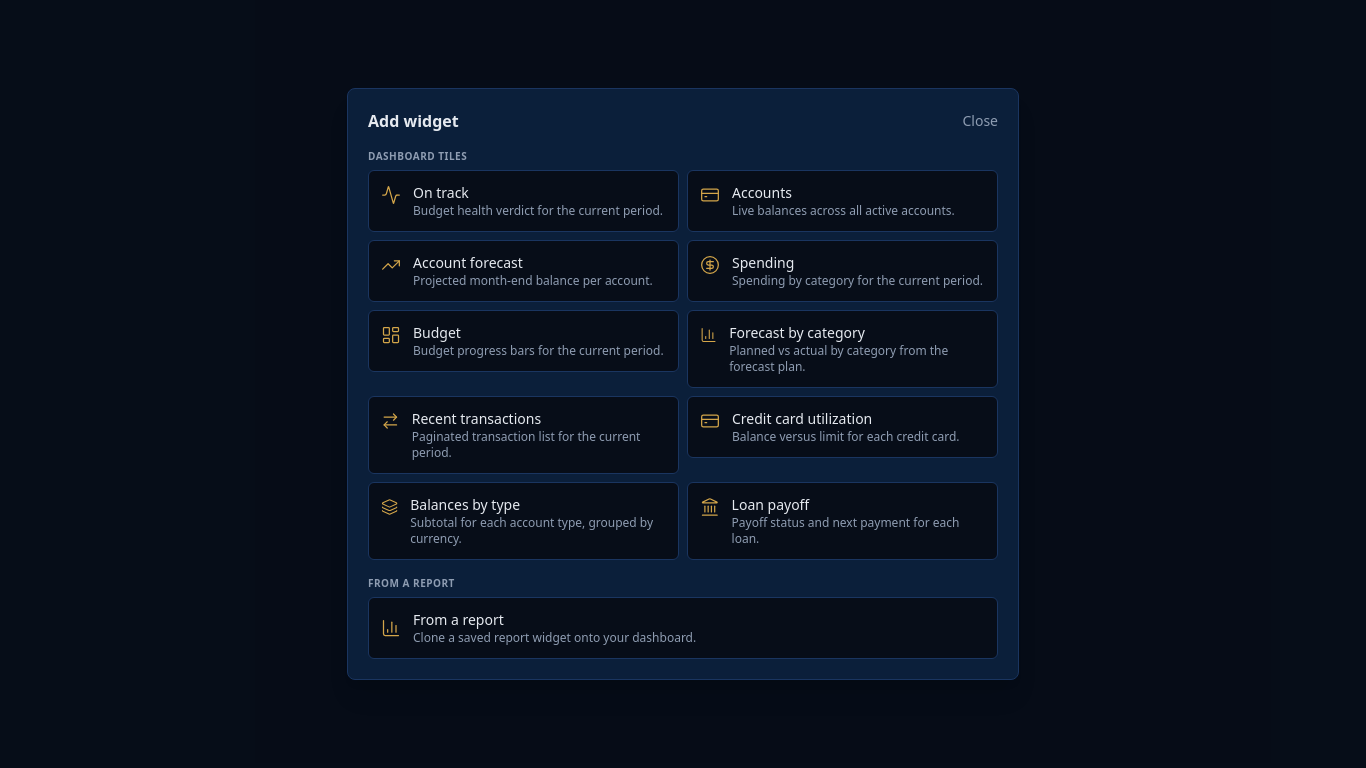
Test case: AddWidgetMenu — From a report › navigates back to root from the reports sub-view
Click the button "From a report" at point(683, 628), box [368, 597, 998, 659]
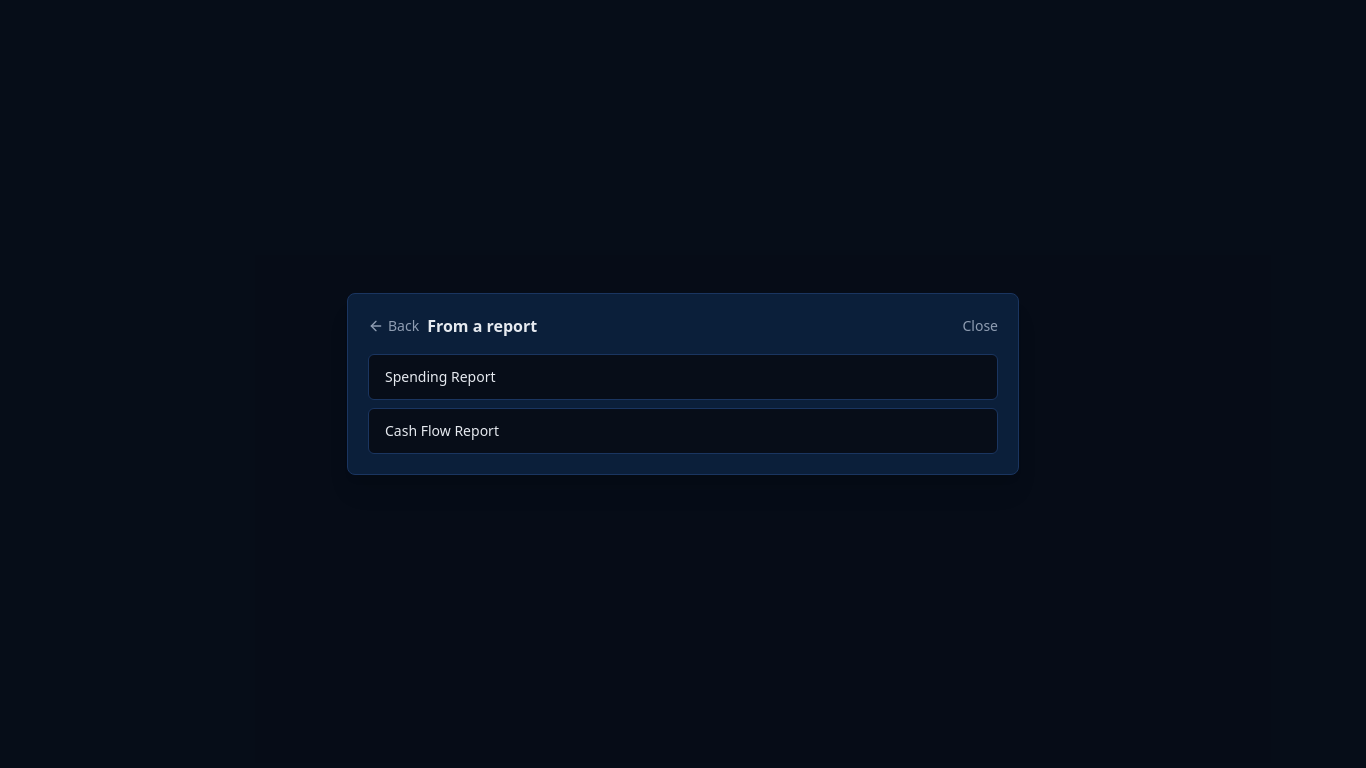
Result: the button "Back" is shown
Click the button "Back" at point(394, 326), box [368, 316, 419, 336]
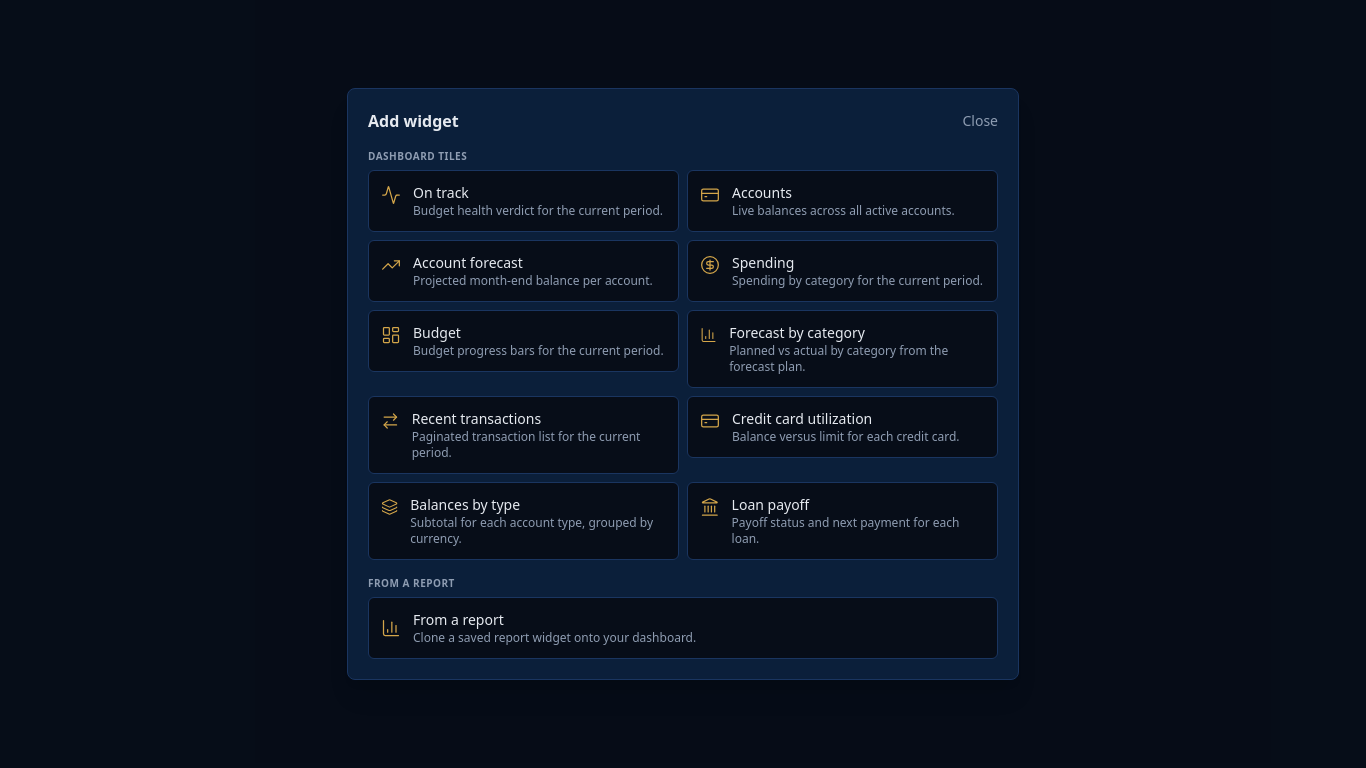
Result: the element with test id "add-widget-menu-group-dashboard" is shown at [368, 149, 998, 560]
